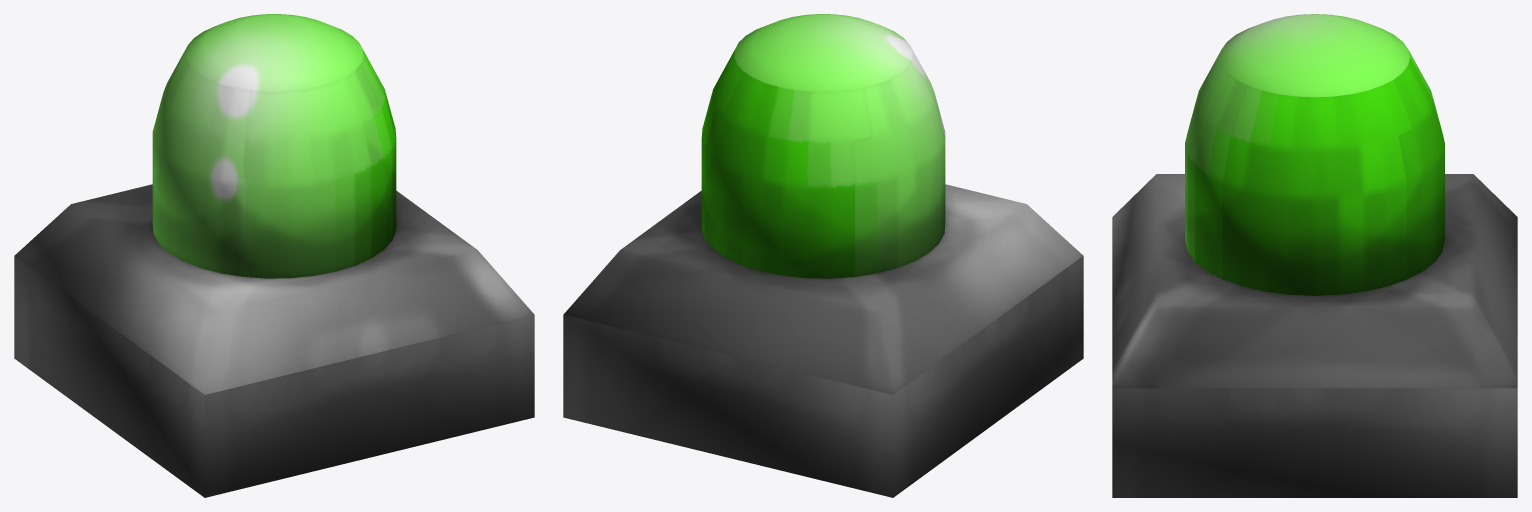
File: button_on.glb
3 renders of one model, left to right at view 1: azimuth 30°, elevation 25°; view 2: azimuth 150°, elevation 25°; view 3: azimuth 270°, elevation 25°, orthographic. The views are drawn at different scales.
Visible parts, largest first — view 1: Cube.003; view 2: Cube.003; view 3: Cube.003.
Part boxes in pixels (<box>): Cube.003: <box>14,14,534,497</box>; Cube.003: <box>563,14,1083,497</box>; Cube.003: <box>1112,14,1517,497</box>.
Size of the model in its own units: 1 by 1.04 by 1.
1 material, 1 textured.
